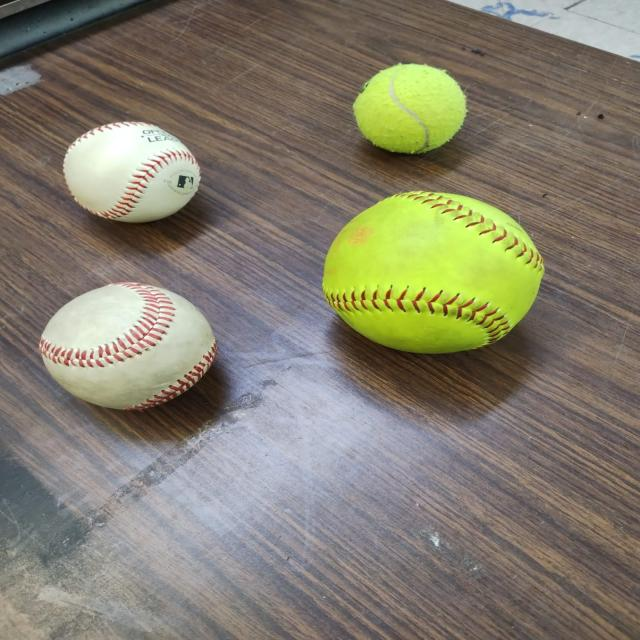beisbol ball: (37, 283, 217, 410), (61, 121, 201, 222)
softball ball: (321, 192, 544, 350)
tenis ball: (351, 62, 468, 154)
